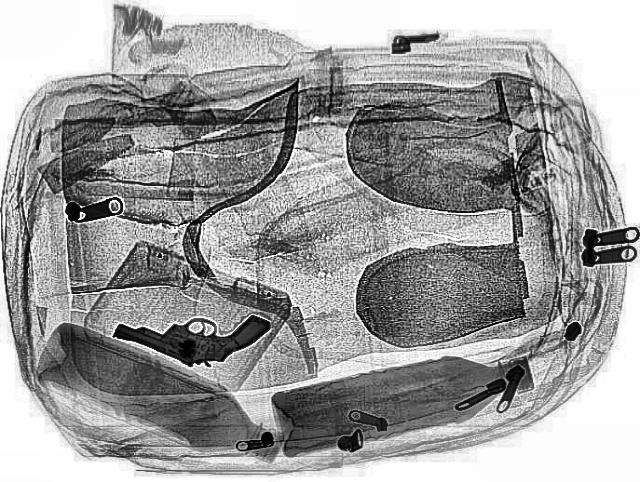Gun: (110, 312, 272, 368)
